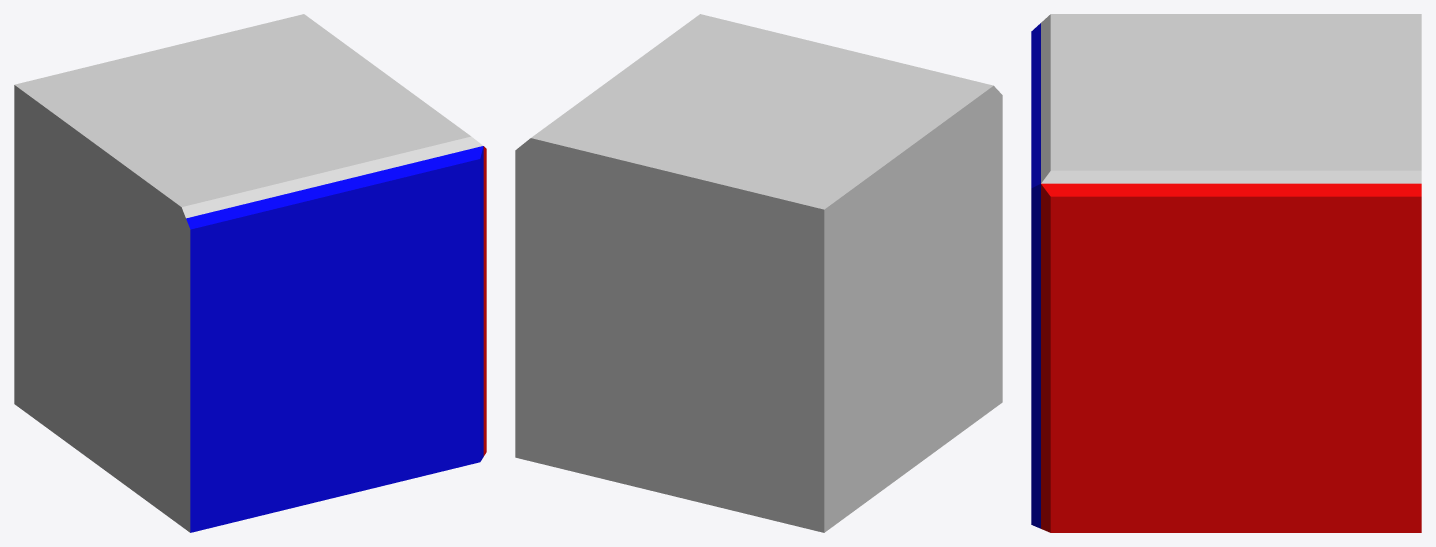
File: corner.glb
3 views of the same model, side by side, from view 1: azimuth 30°, elevation 25°; view 2: azimuth 150°, elevation 25°; view 3: azimuth 270°, elevation 25° (orthographic). The views are drawn at different scales.
Visible parts, largest first — view 1: 立方体; view 2: 立方体; view 3: 立方体.
Part boxes in pixels (x1,y1,x2,y2): 立方体: (14, 14, 486, 532); 立方体: (515, 14, 1002, 532); 立方体: (1031, 14, 1421, 532).
Bounding box in the file's own units: 1 × 1 × 1.
